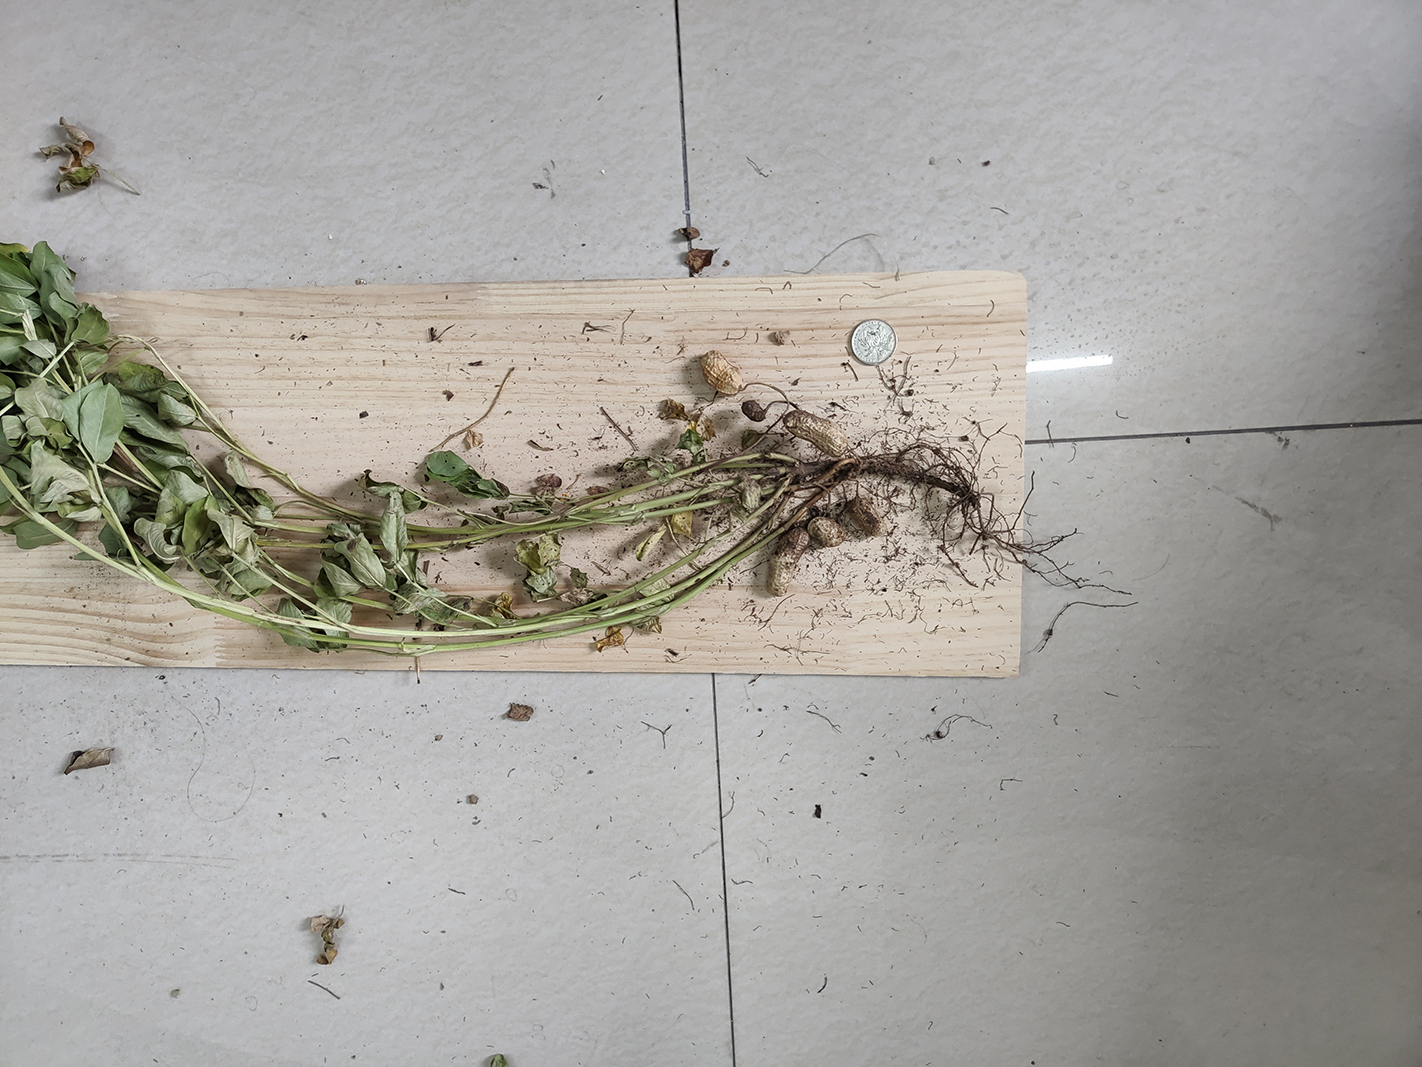h: (784, 410, 848, 460), (768, 527, 810, 596), (701, 350, 743, 396), (808, 516, 844, 546)
l: (851, 495, 884, 536), (742, 401, 766, 423)
